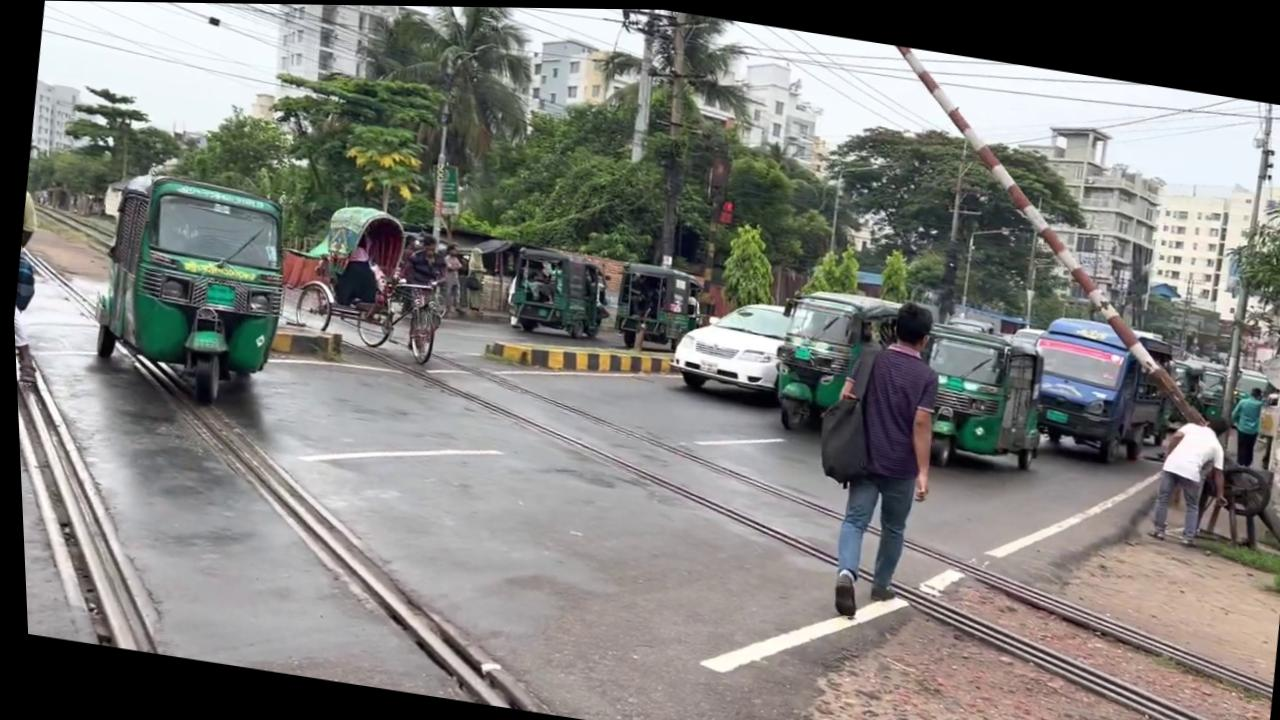Broken-road: (478, 322, 674, 387)
Fence: (803, 289, 954, 625), (1135, 402, 1234, 546), (1218, 379, 1264, 464)
Garbage: (1199, 97, 1280, 447)
Motorcycle: (13, 370, 792, 720)
Pole: (713, 195, 733, 222)
Rickshaw: (76, 161, 300, 413), (1015, 307, 1177, 469), (900, 315, 1051, 478), (759, 279, 905, 443), (497, 242, 614, 342), (605, 254, 707, 357)
